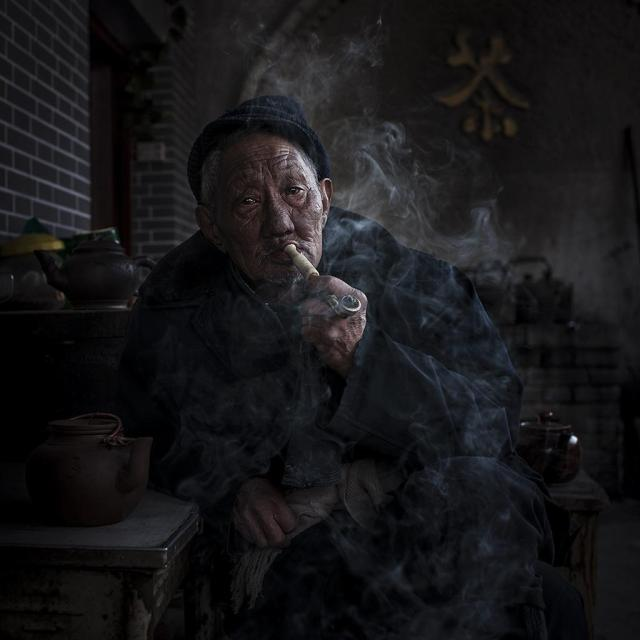smoking: (189, 94, 366, 346)
